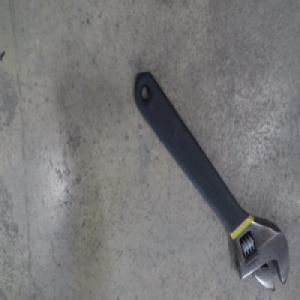AdjustableWrench: (132, 68, 288, 286)
